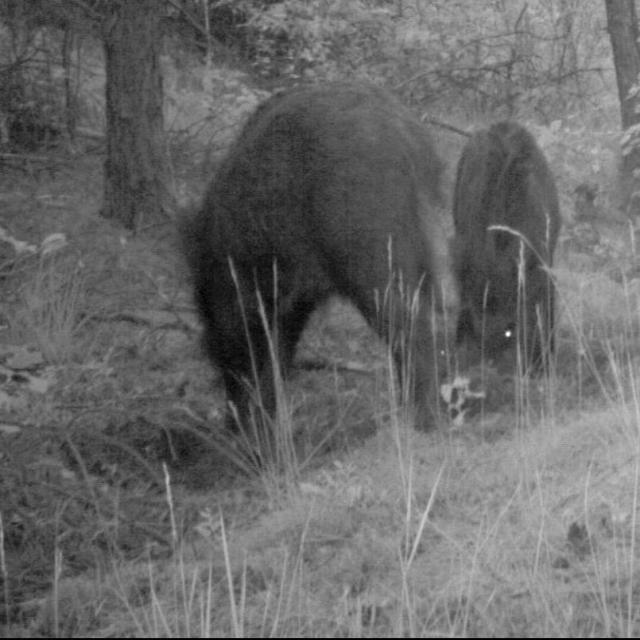pig: (157, 70, 448, 492), (455, 118, 583, 390)
